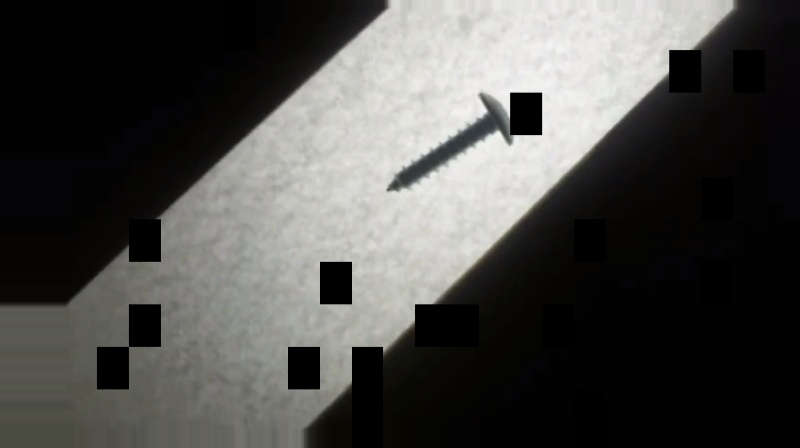S003: (381, 90, 520, 193)
